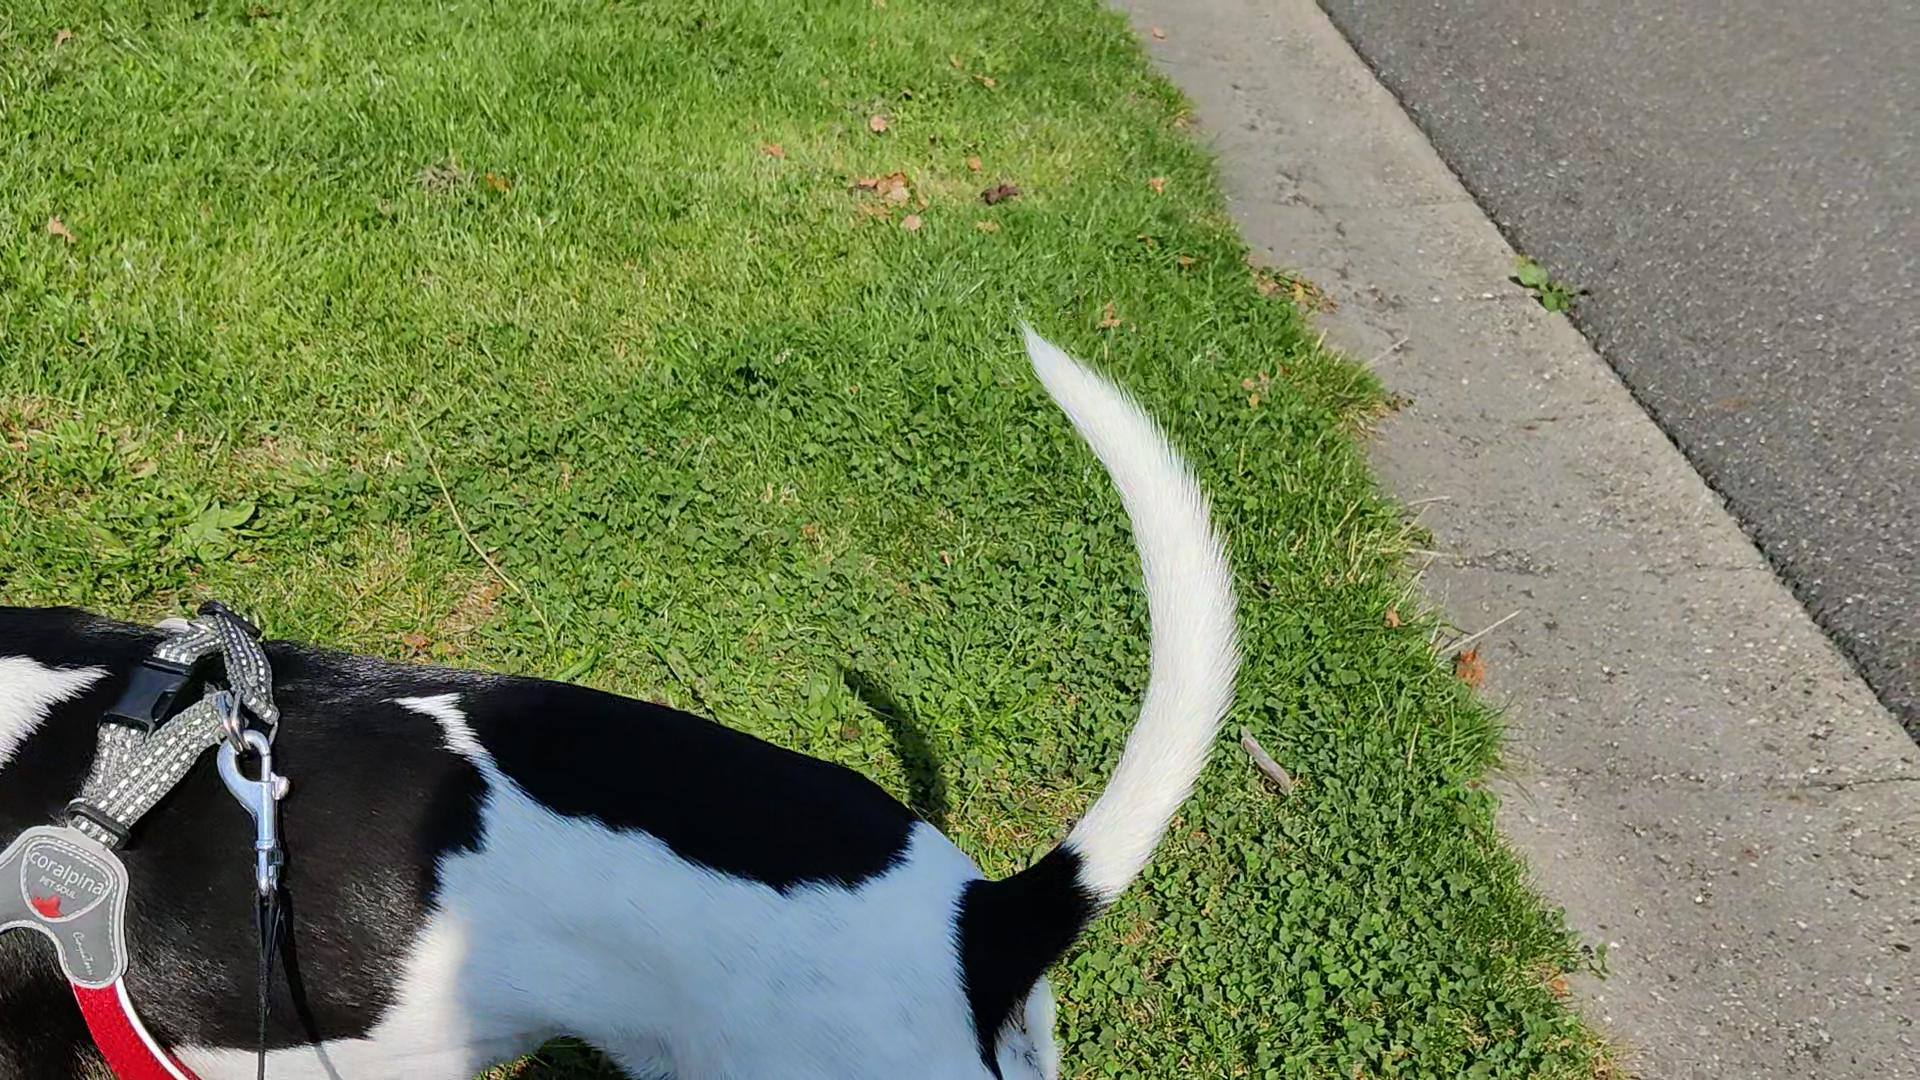Dog: (0, 301, 1266, 1079)
